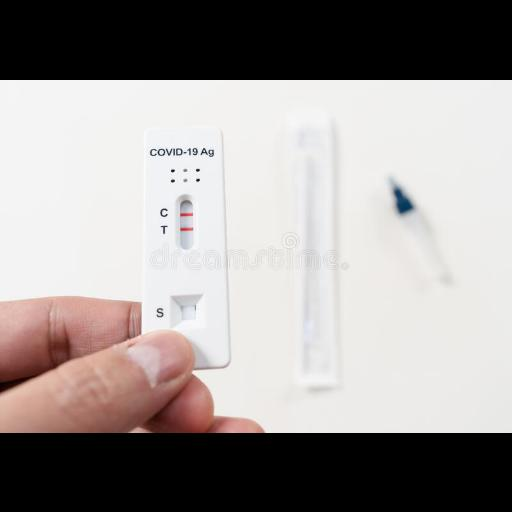Pos: (143, 126, 231, 372)
